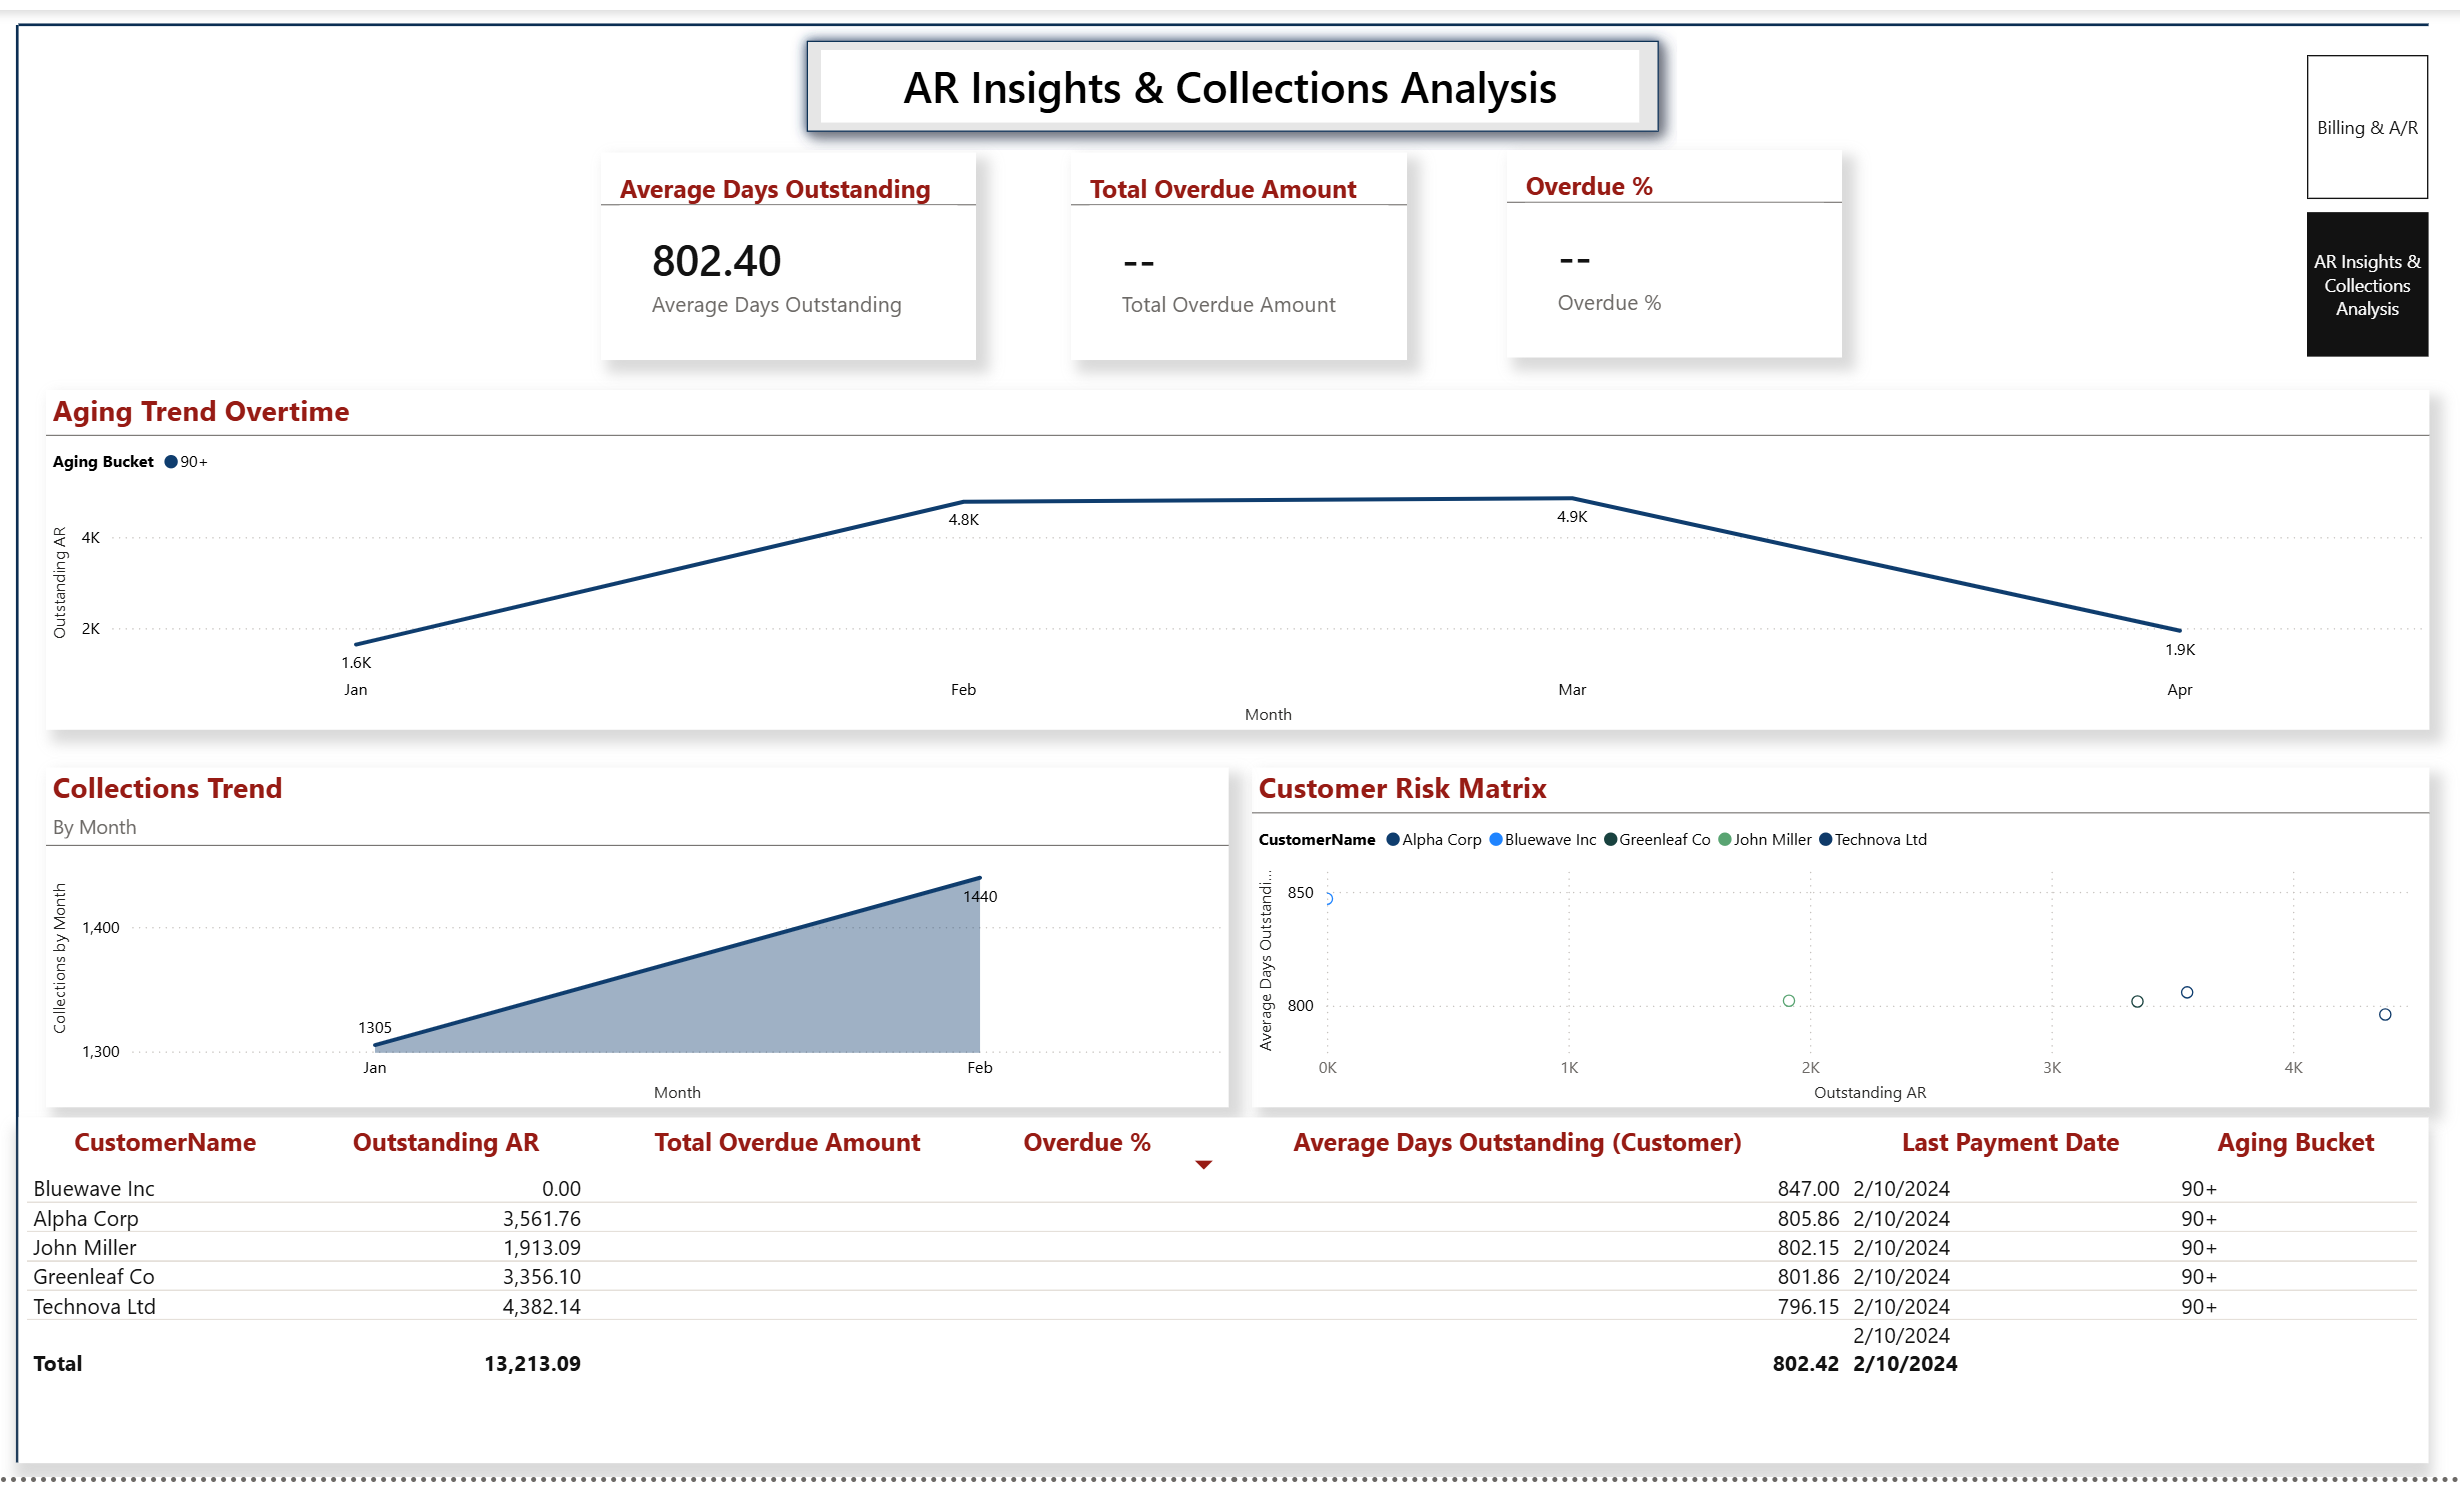

What the dashboard file says about the page in this screenshot:
{"tool":"powerbi","page":{"name":"AR Insights & Collections Analysis","canvas":[1850,1100],"ordinal":1},"visuals":[{"type":"pageNavigator","box":[1732.1,33.7,91.9,226.8],"z":0},{"type":"shape","box":[594.2,9.4,665.5,95.6],"z":1000},{"type":"textbox","box":[618.6,30,613,54.4],"z":2000},{"type":"cardVisual","title":"Average Days Outstanding","fields":{"Data":["_KPI's Page 2.Average Days Outstanding"]},"box":[453.6,106.9,281.2,155.6],"z":3000},{"type":"cardVisual","title":"Total Overdue Amount","fields":{"Data":["_KPI's Page 2.Total Overdue Amount"]},"box":[806.1,106.9,251.2,155.6],"z":4000},{"type":"cardVisual","title":"Overdue %","fields":{"Data":["_KPI's Page 2.Overdue %"]},"box":[1132.2,105,251.2,155.6],"z":5000},{"type":"shape","box":[16.6,0,1806.5,22.2],"z":6000},{"type":"shape","box":[9.4,11.2,13.1,1077.9],"z":7000},{"type":"lineChart","title":"Aging Trend Overtime","fields":{"Category":["DimDate.Month"],"Y":["_KPI's Page 1.Outstanding AR"],"Series":["Invoices_Fact.Aging Bucket"]},"box":[37.5,284.9,1786.5,254.9],"z":8000},{"type":"scatterChart","title":"Customer Risk Matrix","fields":{"X":["_KPI's Page 1.Outstanding AR"],"Y":["_KPI's Page 2.Average Days Outstanding (Customer)"],"Size":["_KPI's Page 1.Overdue Amount"],"Series":["Customers_Dim.CustomerName"]},"box":[941,568,882.9,254.9],"z":9000},{"type":"areaChart","title":"Collections Trend","fields":{"Category":["DimDate.Month"],"Y":["_KPI's Page 2.Collections by Month"]},"box":[37.5,568,886.7,254.9],"z":10000},{"type":"tableEx","fields":{"Values":["Invoices_Fact.CustomerName","_KPI's Page 1.Outstanding AR","_KPI's Page 2.Total Overdue Amount","_KPI's Page 2.Overdue %","_KPI's Page 2.Average Days Outstanding (Customer)","_KPI's Page 2.Last Payment Date","Invoices_Fact.Aging Bucket"]},"box":[16.6,829.8,1806.5,259.1],"z":11000}]}

Visuals, with their boxes in screenshot pixels (x1, y1, x2, y2), scaled from the page's 1850x1100 canvas onto the 2460x1487 screenshot:
pageNavigator: {"x1": 2303, "y1": 46, "x2": 2425, "y2": 352}
shape: {"x1": 790, "y1": 13, "x2": 1675, "y2": 142}
textbox: {"x1": 823, "y1": 41, "x2": 1638, "y2": 114}
"Average Days Outstanding" cardVisual: {"x1": 603, "y1": 145, "x2": 977, "y2": 355}
"Total Overdue Amount" cardVisual: {"x1": 1072, "y1": 145, "x2": 1406, "y2": 355}
"Overdue %" cardVisual: {"x1": 1506, "y1": 142, "x2": 1840, "y2": 352}
shape: {"x1": 22, "y1": 0, "x2": 2424, "y2": 30}
shape: {"x1": 12, "y1": 15, "x2": 30, "y2": 1472}
"Aging Trend Overtime" lineChart: {"x1": 50, "y1": 385, "x2": 2425, "y2": 730}
"Customer Risk Matrix" scatterChart: {"x1": 1251, "y1": 768, "x2": 2425, "y2": 1112}
"Collections Trend" areaChart: {"x1": 50, "y1": 768, "x2": 1229, "y2": 1112}
tableEx - Invoices_Fact.CustomerName x _KPI's Page 1.Outstanding AR: {"x1": 22, "y1": 1122, "x2": 2424, "y2": 1472}
